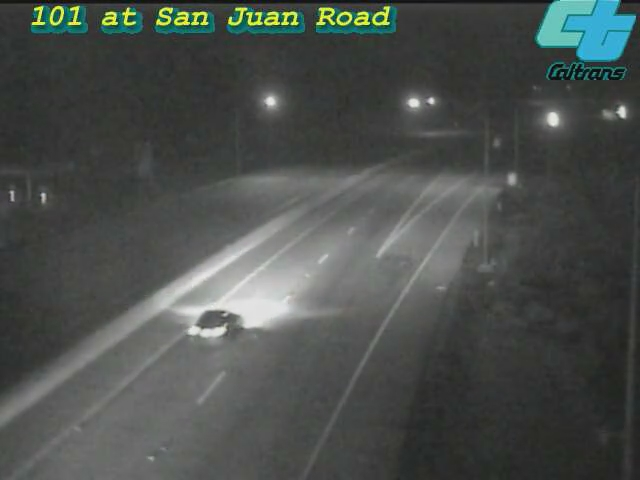vehicle: (154, 267, 264, 377), (584, 90, 634, 140), (529, 94, 579, 144), (595, 87, 640, 137)
